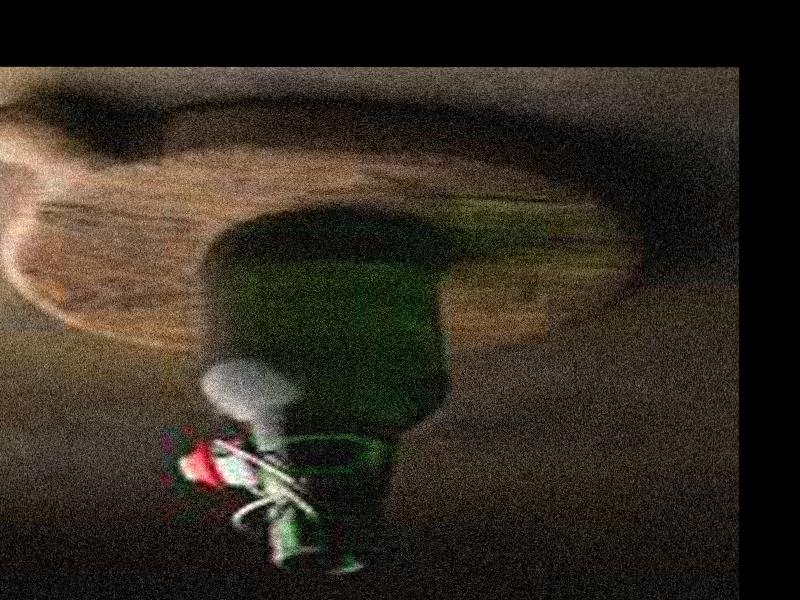Beer: (203, 219, 437, 579)
